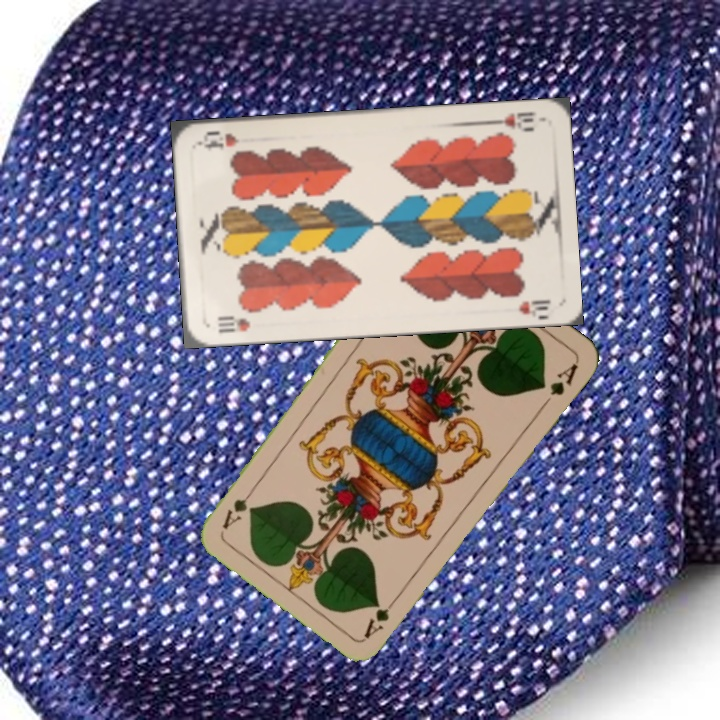GA: (360, 590, 403, 641)
H10: (485, 108, 538, 134), (213, 311, 253, 335)
